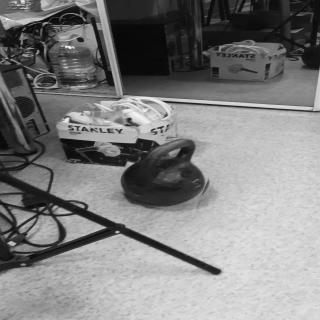kettlebell: (118, 136, 219, 211)
